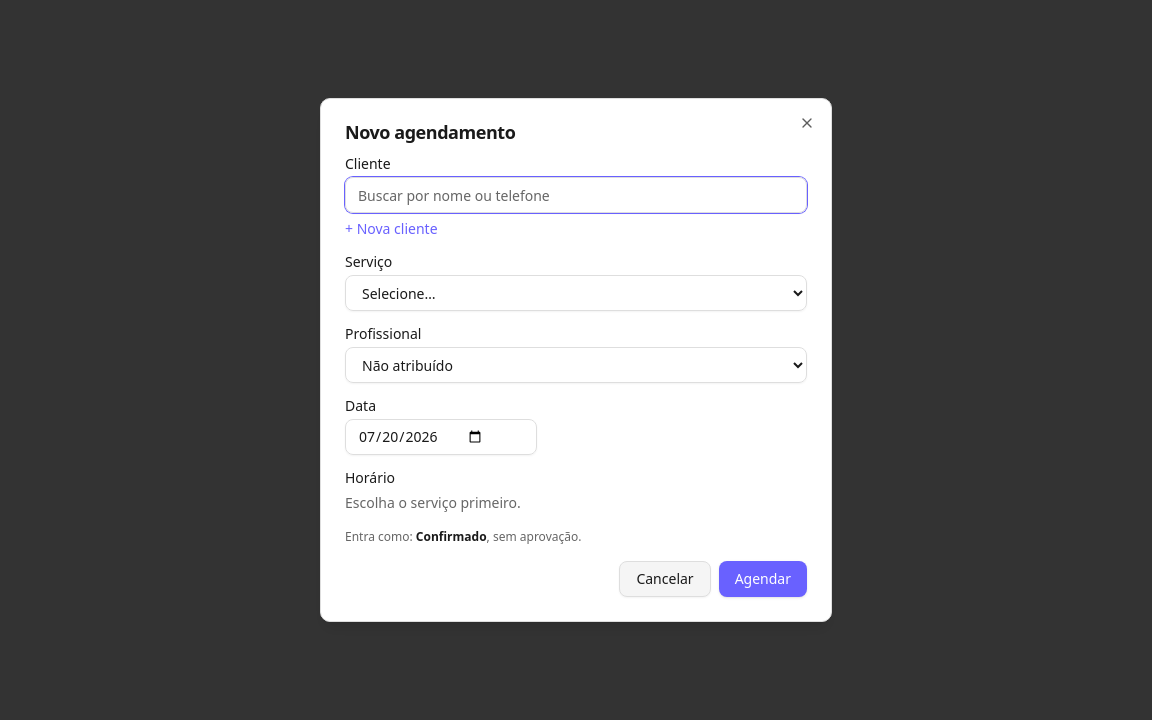
NovoAgendamento › avisa overbooking ao usar 'Outro horário' fora dos slots livres (D1)
Expected: the heading "Novo agendamento" is shown, x1=345 y1=120 x2=515 y2=144
Select "Corte" in the dropdown labelled "Serviço" at (576, 293), box x1=345 y1=275 x2=807 y2=311
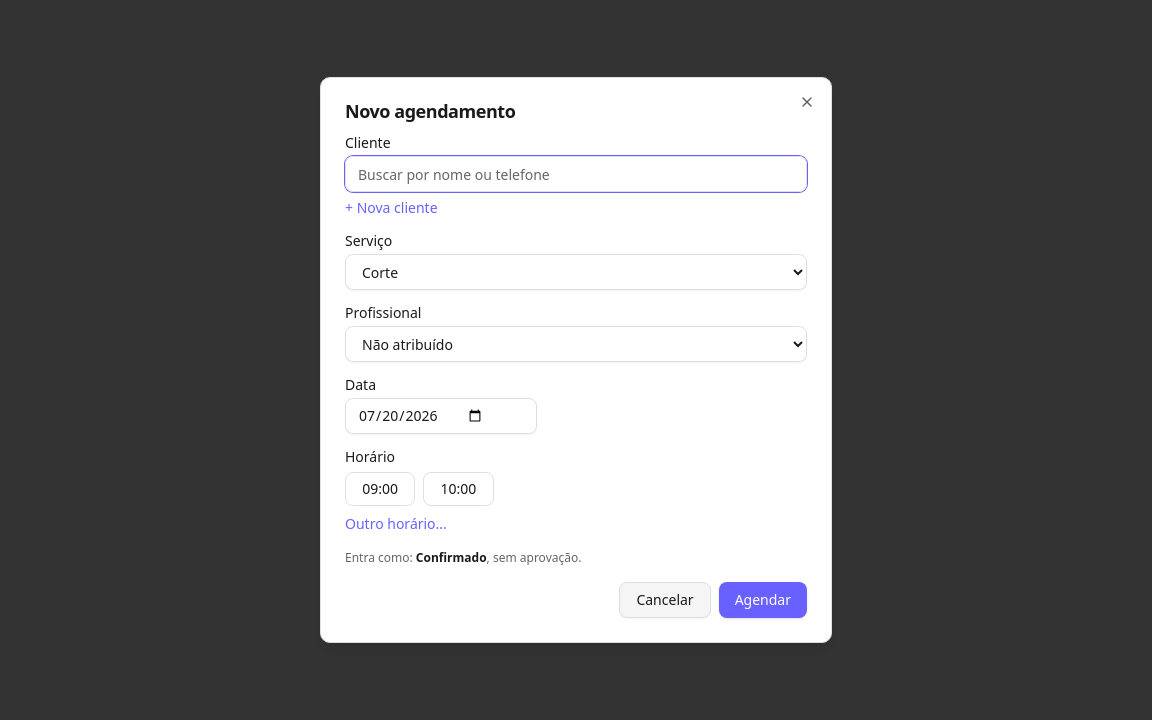
Now the button "10:00" is shown, box x1=423 y1=472 x2=494 y2=506
Click the button "Outro horário…" at (396, 524), box x1=345 y1=514 x2=447 y2=534
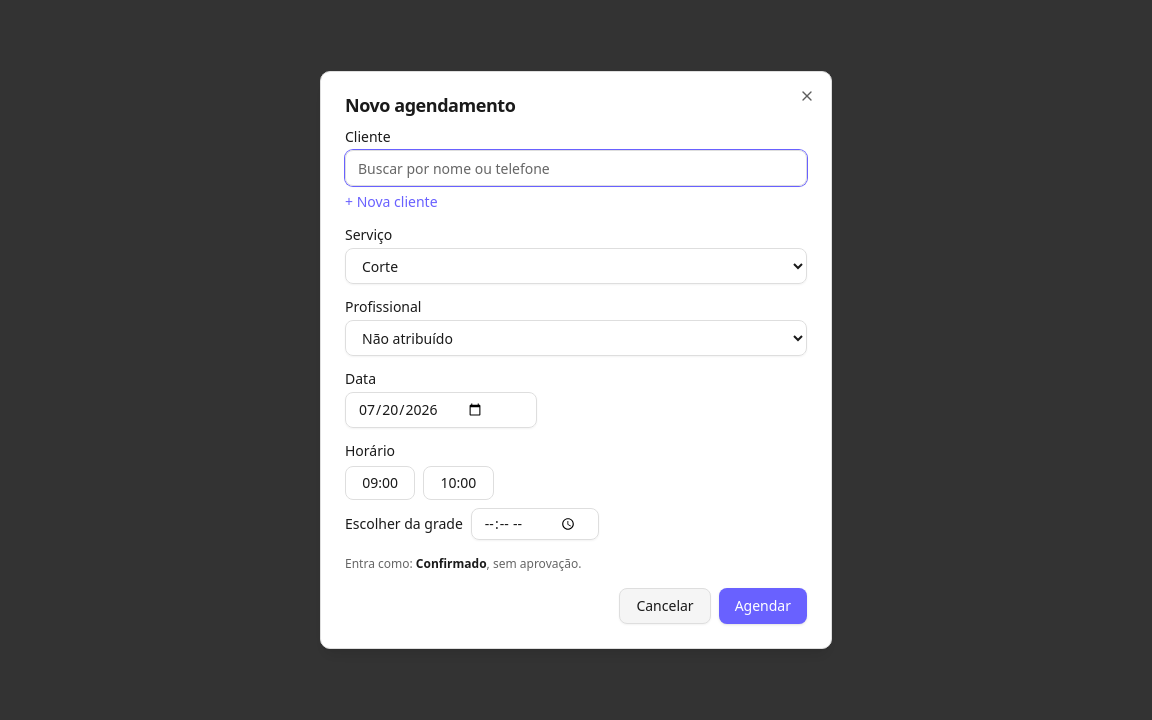
Type "13:30" into the time field named "Outro horário" at (535, 524), box x1=471 y1=508 x2=599 y2=540
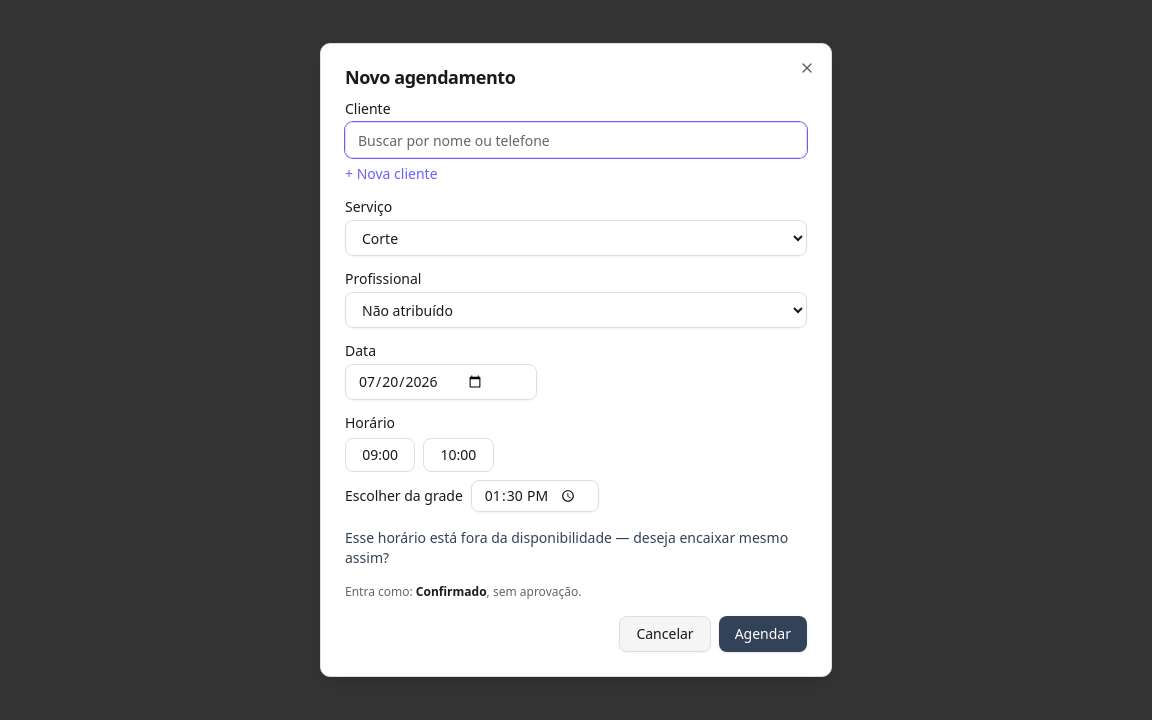
Now the text "Esse horário está fora da disponibilidade — deseja encaixar mesmo assim?" is shown, box x1=345 y1=528 x2=807 y2=568
